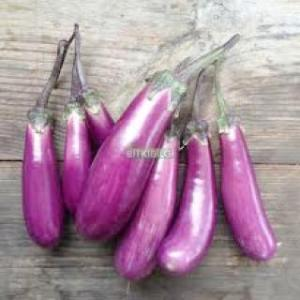eggplant: (74, 73, 180, 239), (114, 126, 180, 278), (158, 123, 216, 276), (218, 117, 274, 259), (22, 106, 62, 244)
